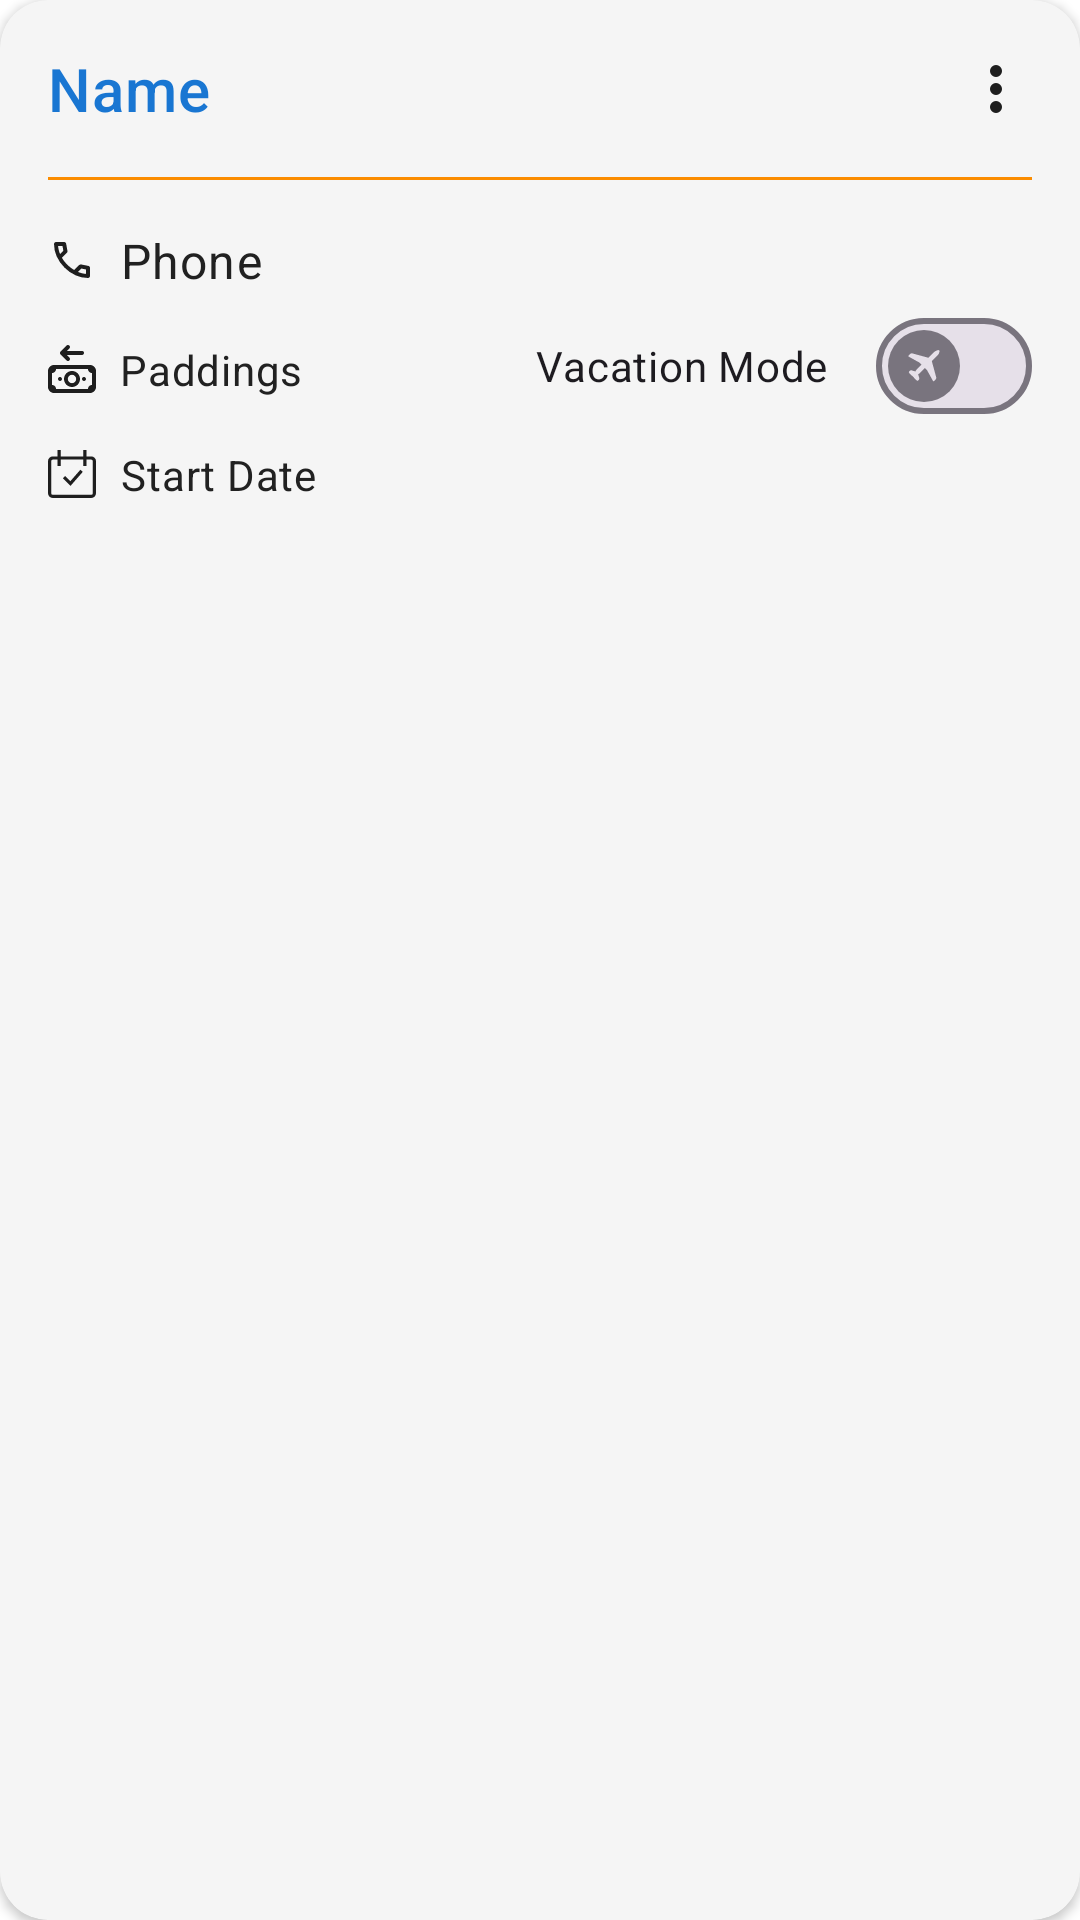

Screen size 1080*1920. Icon name, then its box in pixels as bbox=(x1, y1, x2, y2):
More Option: bbox=(990, 65, 1002, 113)
